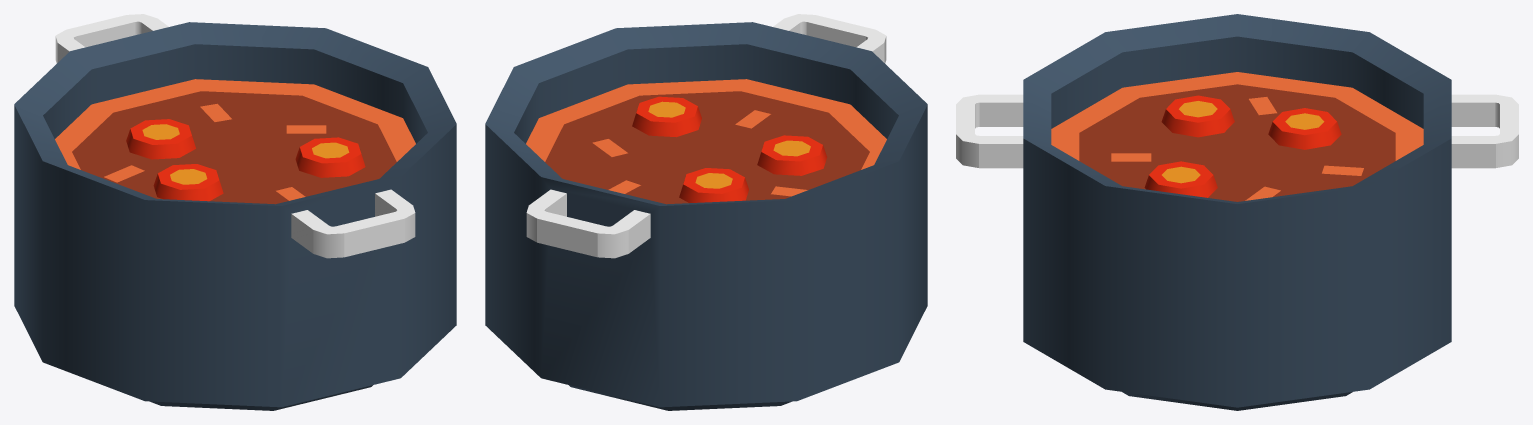
The model's file is potStew.obj.
3 views of the same model, side by side, from view 1: azimuth 30°, elevation 25°; view 2: azimuth 150°, elevation 25°; view 3: azimuth 270°, elevation 25° (orthographic).
Visible parts, largest first — view 1: potStew; view 2: potStew; view 3: potStew.
Boxes of the visible parts, x1,y1,x2,y2 form: potStew: (14,14,456,410); potStew: (485,14,927,410); potStew: (956,14,1518,410).
Size of the model in its own units: 0.6574 by 0.3608 by 0.8221.
